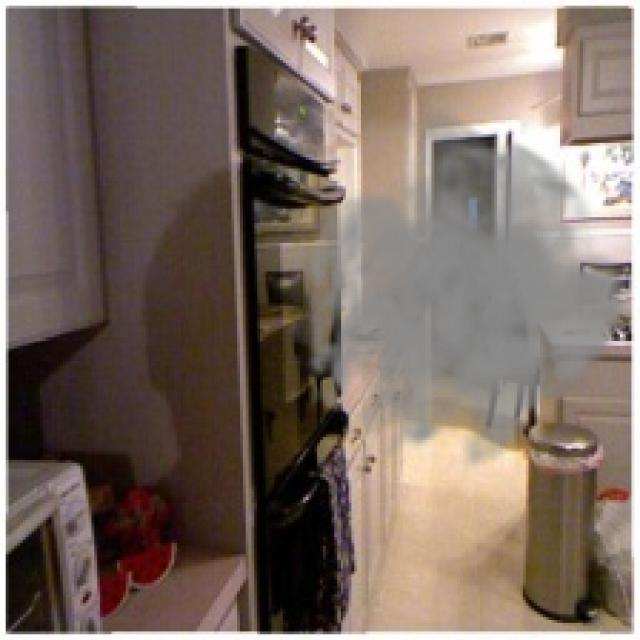smoke: (286, 103, 634, 483)
